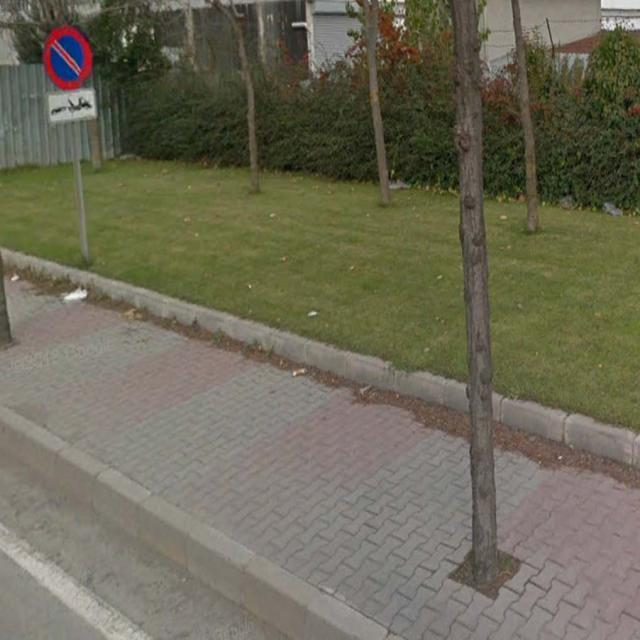parkyasak: (43, 26, 93, 91)
